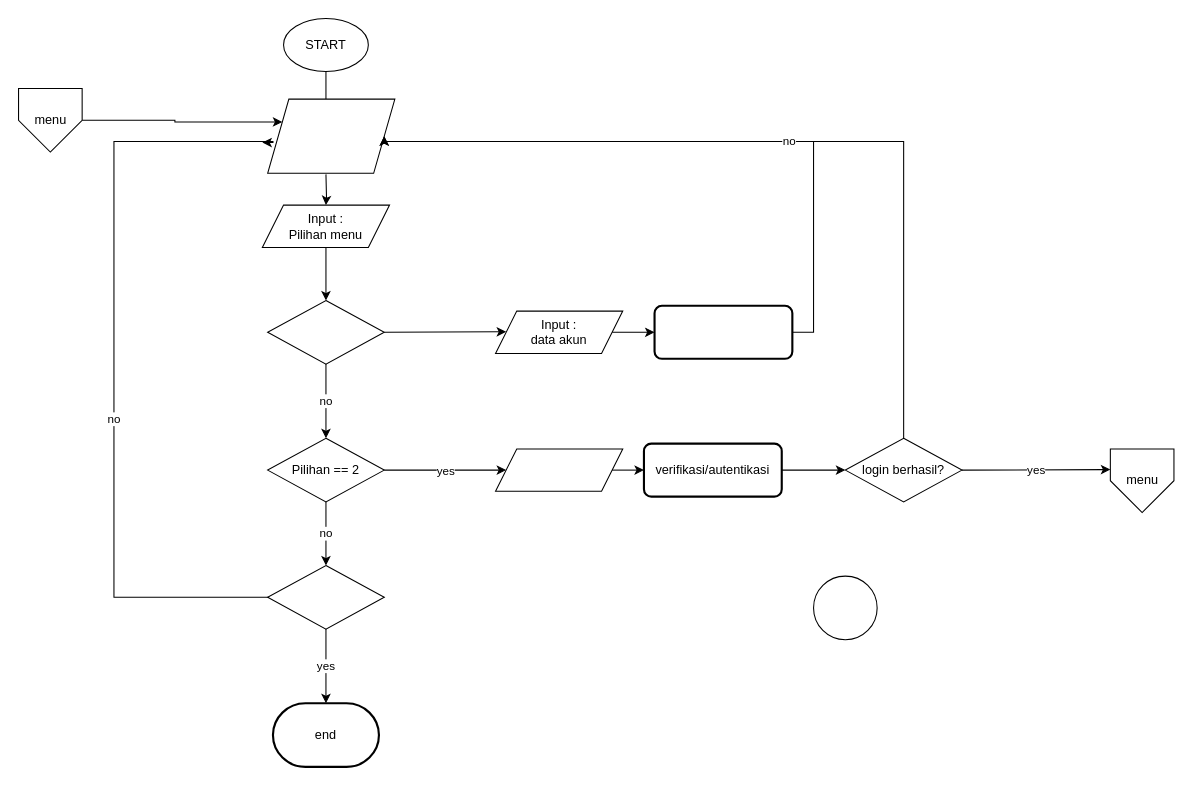
This 1192x787 diagram has some shape labels left out. Each missing label, with the centre of its shape:
"Input : data login" belongs at (558,469).
"Output Menu" belongs at (331,135).
"Pilihan == 1" belongs at (325,331).
"Pilihan == 3" belongs at (325,596).
"simpan data akun" belongs at (723,331).
